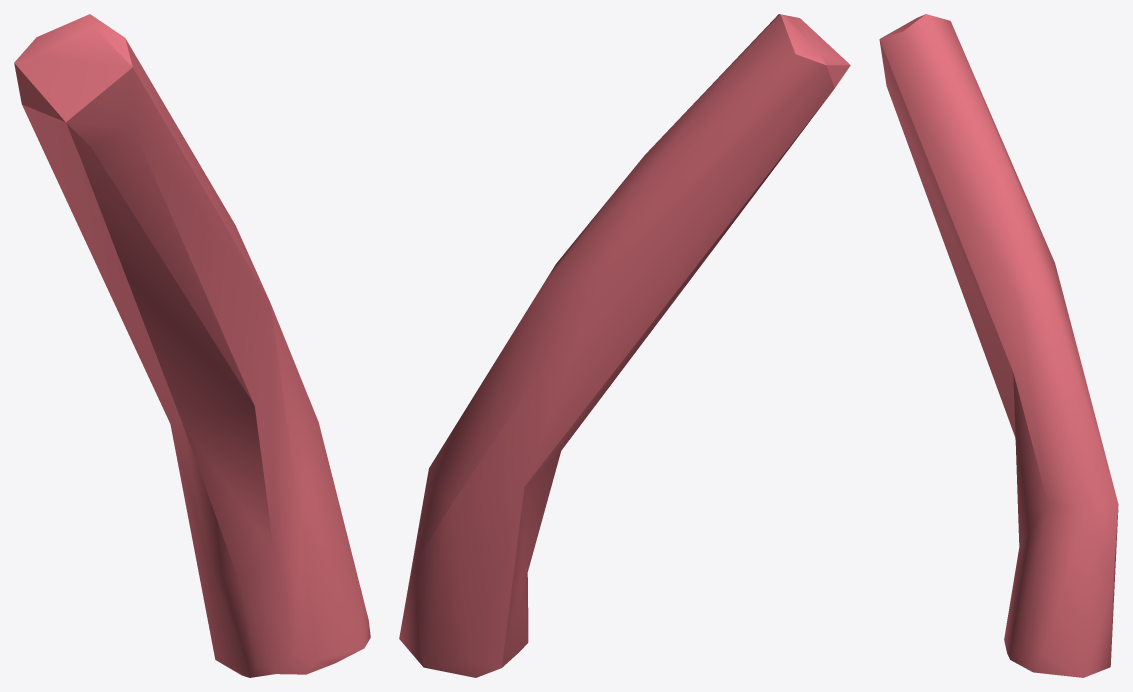
The model's file is fma8619_fj6038.glb.
3 renders of one model, left to right at view 1: azimuth 30°, elevation 25°; view 2: azimuth 150°, elevation 25°; view 3: azimuth 270°, elevation 25°, orthographic. The views are drawn at different scales.
Parts seen in each view (by area): view 1: FMA8619_FJ6038; view 2: FMA8619_FJ6038; view 3: FMA8619_FJ6038.
Boxes of the visible parts, <box> form: FMA8619_FJ6038: <box>14,14,370,677</box>; FMA8619_FJ6038: <box>399,14,850,677</box>; FMA8619_FJ6038: <box>879,14,1118,677</box>.
Bounding box in the file's own units: 0.00797 × 0.0142 × 0.00555.
